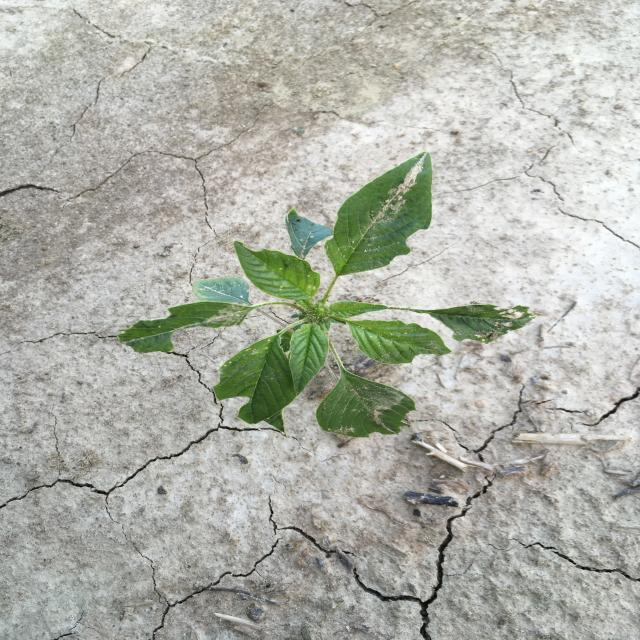PalmerAmaranth: (114, 152, 538, 440)
